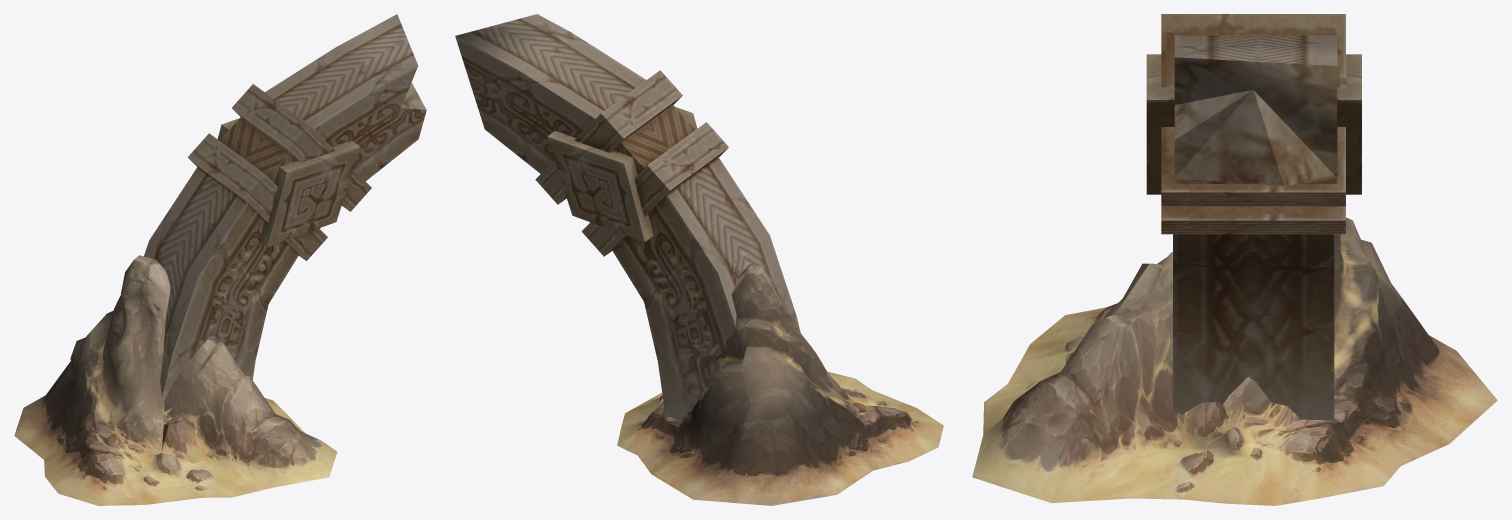
Rendered from Scene_Build_TaZiShaMo_GongMen_3.FBX.
3 renders of one model, left to right at view 1: azimuth 30°, elevation 25°; view 2: azimuth 150°, elevation 25°; view 3: azimuth 270°, elevation 25°, orthographic. The views are drawn at different scales.
Parts seen in each view (by area): view 1: Scene_Build_TaZiShaMo_GongMen_3; view 2: Scene_Build_TaZiShaMo_GongMen_3; view 3: Scene_Build_TaZiShaMo_GongMen_3.
Boxes of the visible parts, x1,y1,x2,y2 form: Scene_Build_TaZiShaMo_GongMen_3: (14,14,426,505); Scene_Build_TaZiShaMo_GongMen_3: (455,14,943,505); Scene_Build_TaZiShaMo_GongMen_3: (972,14,1497,505).
Size of the model in its own units: 3038 by 2457 by 2111.
1 material, 1 textured.
